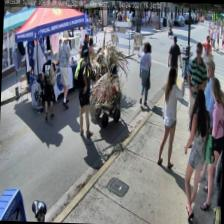person: (182, 87, 210, 219), (200, 78, 224, 210), (157, 66, 185, 167), (74, 49, 96, 137), (40, 49, 56, 122), (138, 41, 152, 104), (167, 34, 181, 83)
